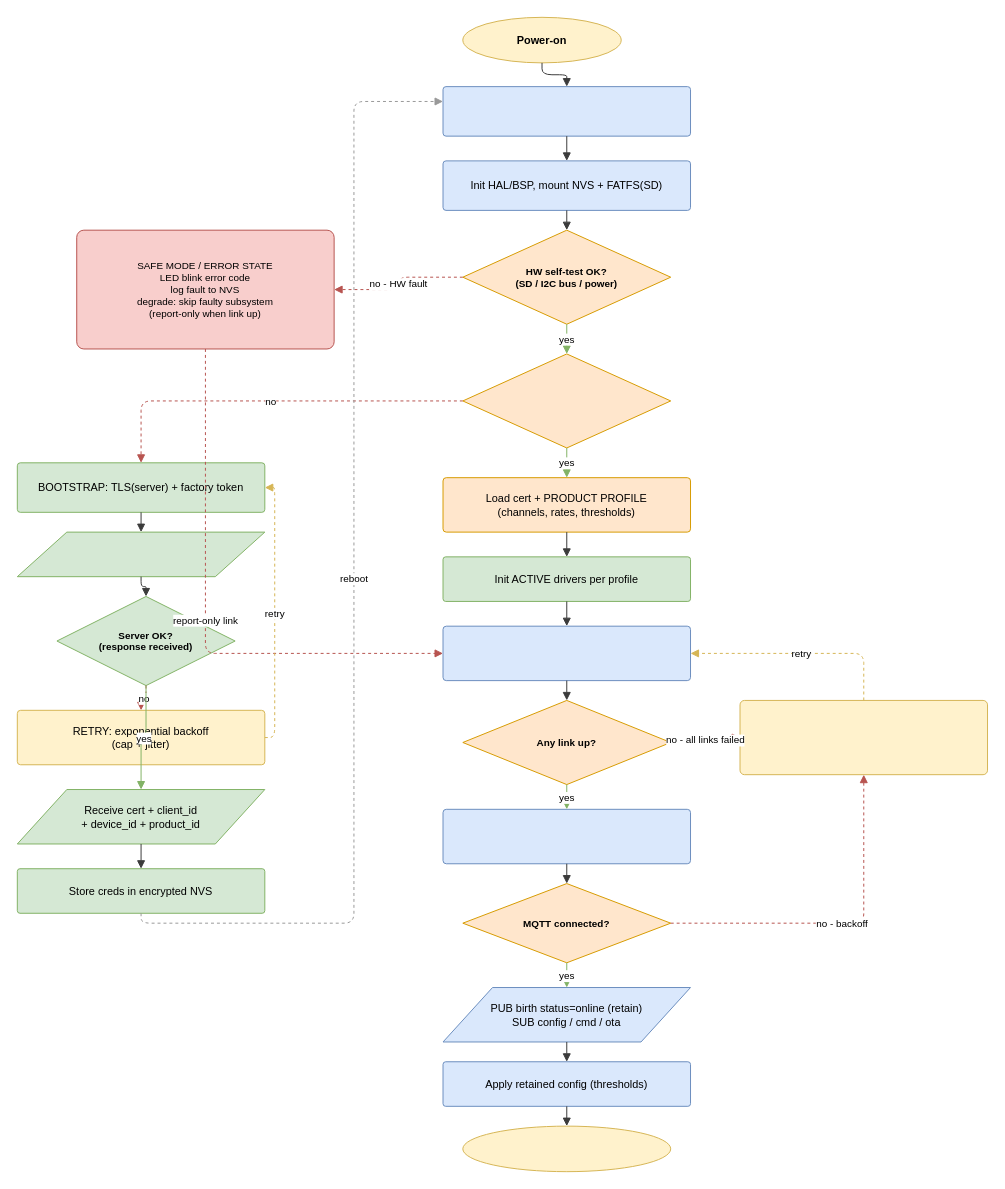
The diagram is 1005 pixels wide and 1189 high, and some of its shapes have lost their labels. Each missing label, with the box of its shape:
Enter RUNTIME (page 3): (462, 1125, 671, 1172)
Link bring-up: try Wi-Fi -> 4G -> LoRa (each with timeout): (442, 625, 691, 681)
MQTT connect (mTLS, clean_start=0, LWT offline): (442, 808, 691, 864)
Provisioned? (cert + product_id in NVS): (462, 353, 671, 448)
PUB provisioning/{chip_id}/request: (16, 531, 265, 577)
Secure boot + flash-decrypt load bootloader (A/B slot): (442, 86, 691, 136)
Wait / light-sleep + exponential backoff (cap, jitter): (739, 699, 988, 775)
